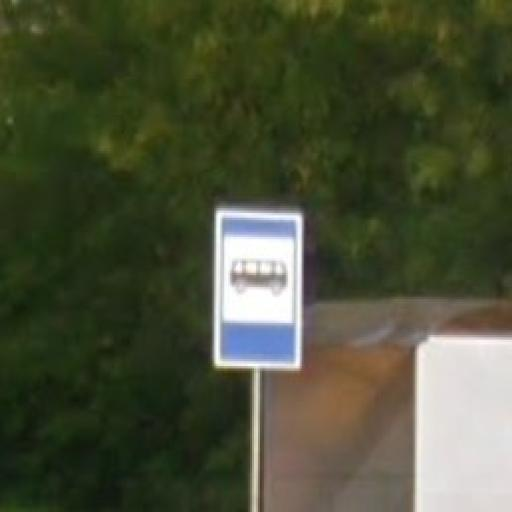traffic_sign: (213, 204, 305, 372)
